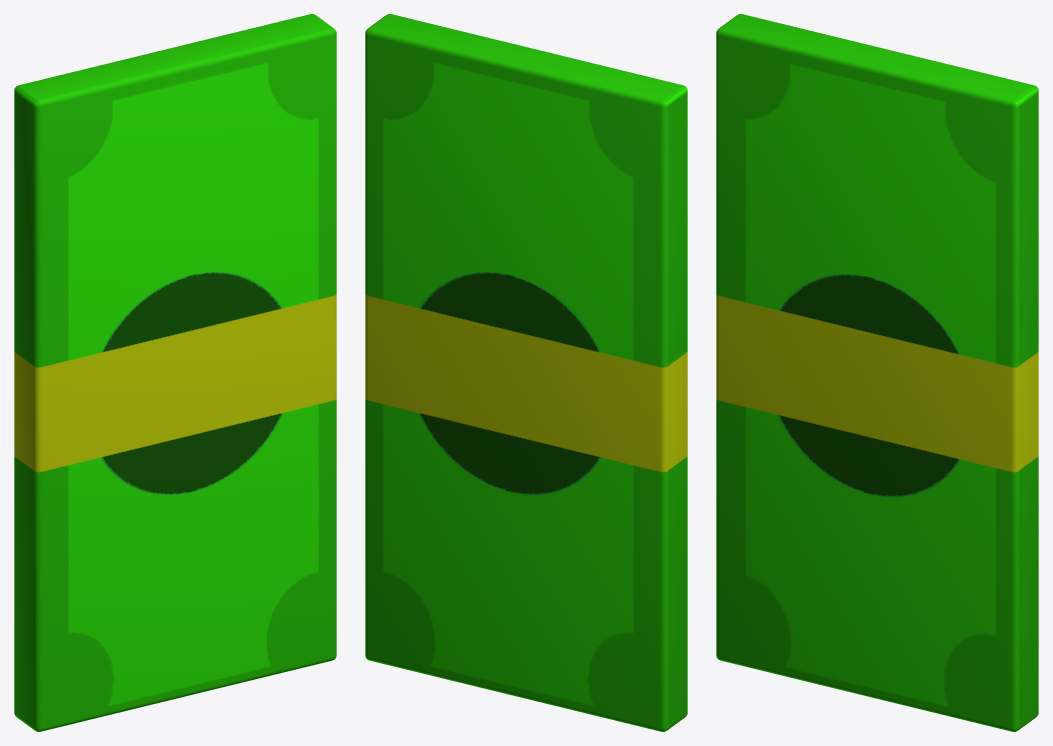
File: oldmoney.fbx
The picture shows the model from 3 angles, left to right: view 1: azimuth 30°, elevation 25°; view 2: azimuth 150°, elevation 25°; view 3: azimuth 330°, elevation 25°; orthographic projection.
Visible parts, largest first — view 1: Cube.001; view 2: Cube.001; view 3: Cube.001.
Boxes of the visible parts, <box> form: Cube.001: <box>14,14,336,731</box>; Cube.001: <box>365,14,687,731</box>; Cube.001: <box>716,14,1038,731</box>.
Size of the model in its own units: 2.39 by 4.77 by 0.3373.
